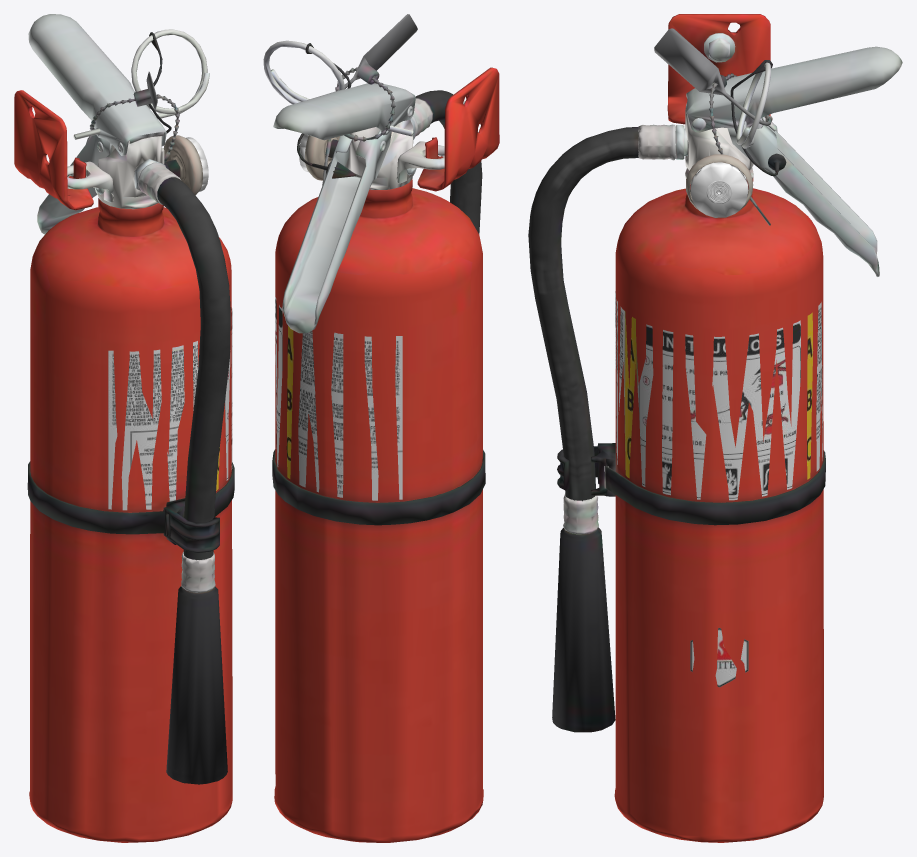
Rendered from fireProtection_extinguisher_portable_a01.glb.
The picture shows the model from 3 angles, left to right: view 1: azimuth 30°, elevation 25°; view 2: azimuth 150°, elevation 25°; view 3: azimuth 270°, elevation 25°; orthographic projection. The views are drawn at different scales.
Visible parts, largest first — view 1: body_01_mesh_00; view 2: body_01_mesh_00; view 3: body_01_mesh_00, glass_01_mesh_00.
Boxes of the visible parts, left/top/right/bottom form: body_01_mesh_00: left=14, top=14, right=234, bottom=842; body_01_mesh_00: left=263, top=14, right=499, bottom=842; body_01_mesh_00: left=528, top=14, right=902, bottom=842; glass_01_mesh_00: left=691, top=162, right=748, bottom=217.
Size of the model in its own units: 0.1086 by 0.4174 by 0.1842.
Materials: 3 (2 with a texture image).
